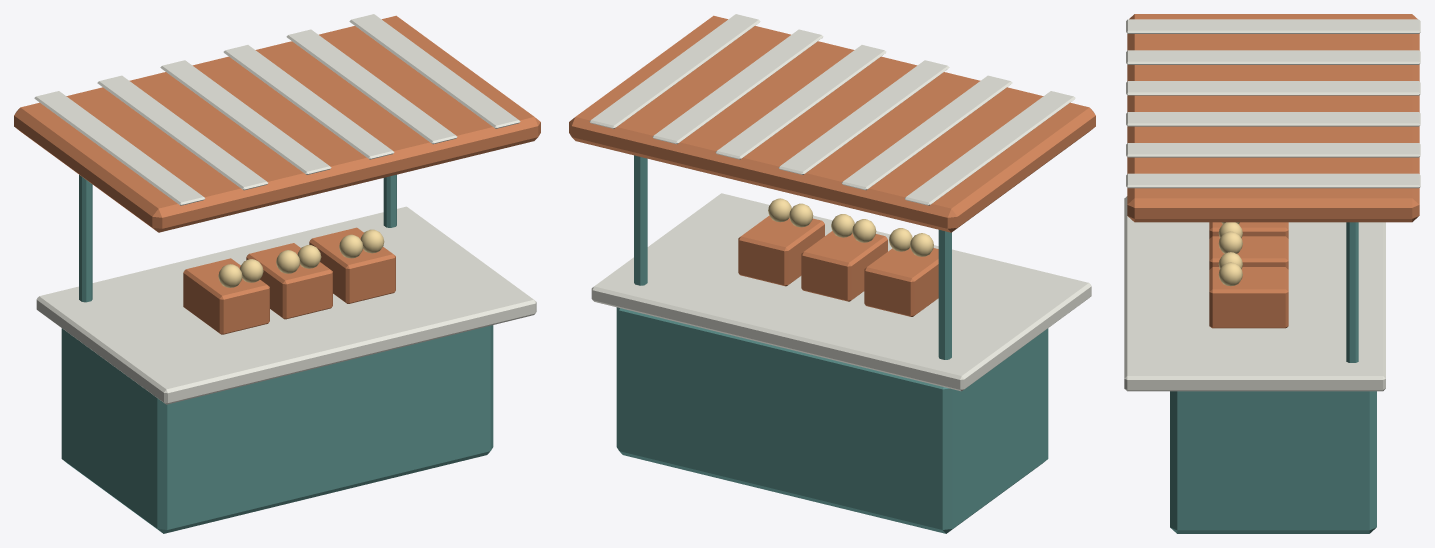
File: garden-kiosk.glb
The picture shows the model from 3 angles, left to right: view 1: azimuth 30°, elevation 25°; view 2: azimuth 150°, elevation 25°; view 3: azimuth 270°, elevation 25°; orthographic projection.
Visible parts, largest first — view 1: Counter, Sunshade, Countertop, Crate, Canopy stripe.001, Canopy stripe.003, Canopy stripe.005, Canopy stripe.004, Canopy stripe, Canopy stripe.002, Crate.002, Crate.001 (+2 smaller); view 2: Counter, Sunshade, Countertop, Crate, Crate.001, Crate.002, Canopy stripe.001, Canopy stripe.003, Canopy stripe.005, Canopy stripe.004, Canopy stripe, Canopy stripe.002 (+2 smaller); view 3: Sunshade, Countertop, Counter, Canopy stripe.005, Crate.002, Canopy stripe.001, Canopy stripe.002, Canopy stripe.003, Canopy stripe, Canopy stripe.004, Crate.001, Post.001 (+3 smaller).
Boxes of the visible parts, x1,y1,x2,y2 form: Counter: (61,325,493,533); Sunshade: (14,15,540,232); Countertop: (36,206,536,404); Crate: (183,258,269,334); Canopy stripe.001: (97,75,268,190); Canopy stripe.003: (223,45,394,159); Canopy stripe.005: (349,14,520,128); Canopy stripe.004: (286,29,457,144); Canopy stripe: (34,91,205,205); Canopy stripe.002: (160,60,331,174); Crate.002: (309,227,395,303); Crate.001: (246,243,332,319); Counter: (616,307,1048,533); Sunshade: (569,15,1095,232); Countertop: (591,193,1091,391); Crate: (864,247,938,316); Crate.001: (801,231,887,301); Crate.002: (738,215,824,286); Canopy stripe.001: (841,75,1012,190); Canopy stripe.003: (715,45,886,159); Canopy stripe.005: (589,14,760,128); Canopy stripe.004: (652,29,823,144); Canopy stripe: (904,91,1075,205); Canopy stripe.002: (778,60,949,174); Sunshade: (1127,14,1419,222); Countertop: (1124,196,1385,391); Counter: (1170,391,1376,533); Canopy stripe.005: (1126,173,1420,188); Crate.002: (1209,267,1288,328); Canopy stripe.001: (1126,50,1420,64); Canopy stripe.002: (1126,81,1420,95); Canopy stripe.003: (1126,112,1420,126); Canopy stripe: (1126,19,1420,33); Canopy stripe.004: (1126,143,1420,157); Crate.001: (1209,236,1288,269); Post.001: (1346,222,1358,362).
Size of the model in its own units: 3.7 by 3.2 by 2.44.
